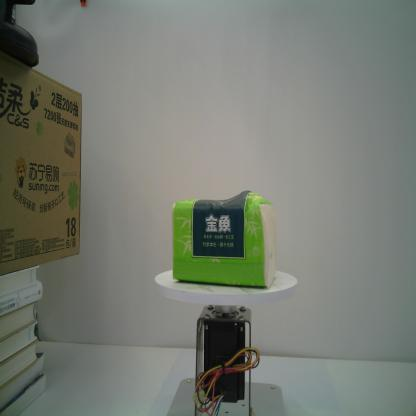Tissue: (170, 188, 278, 291)
